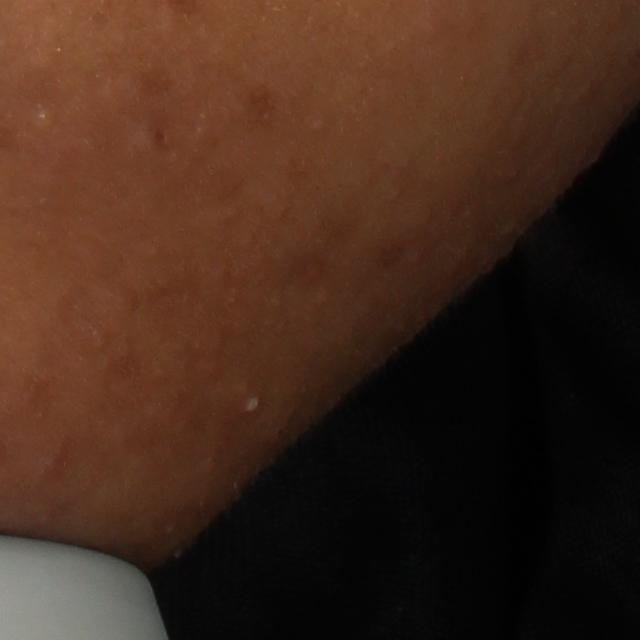comedo: (35, 101, 55, 130)
pustule: (227, 378, 269, 420)
